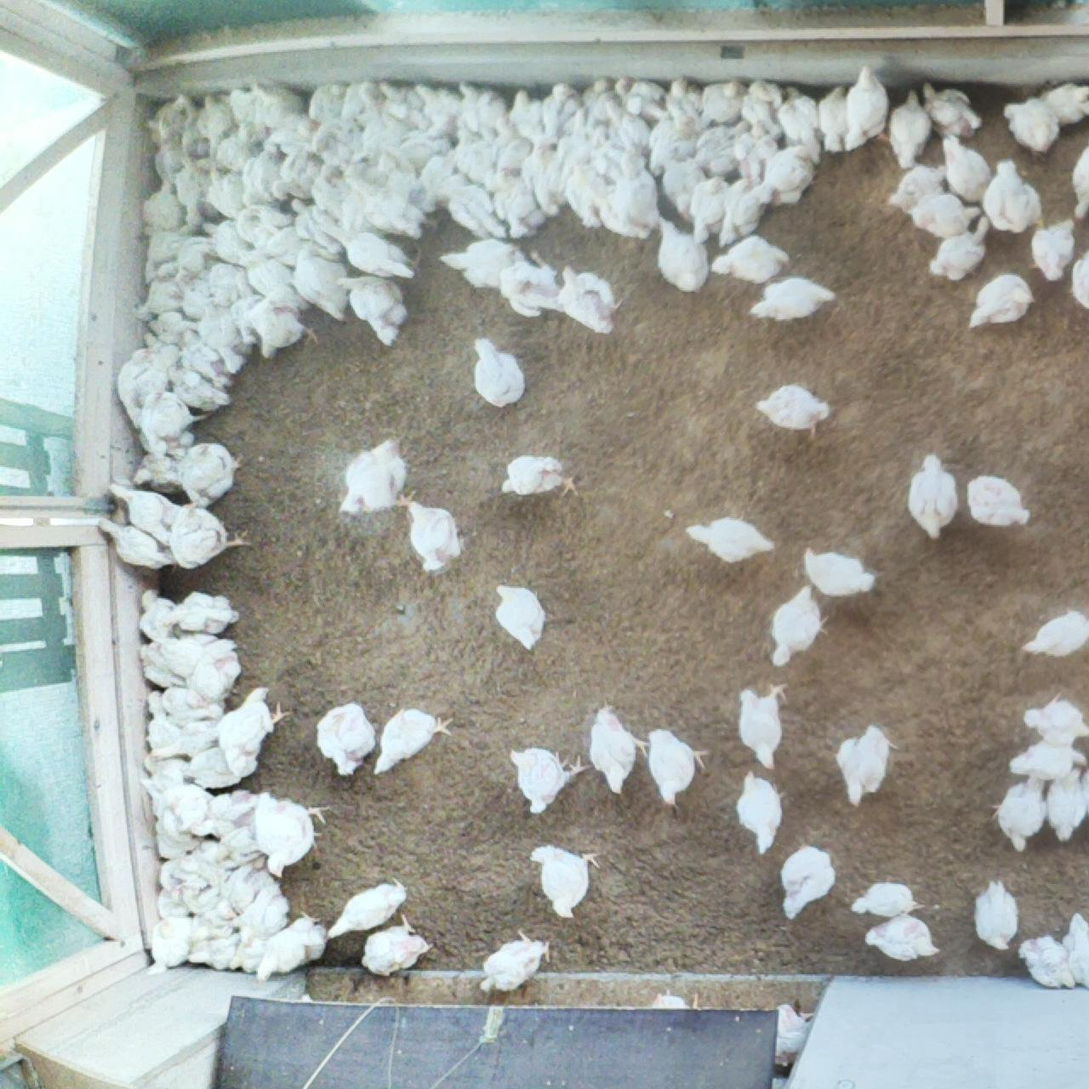chicken: (250, 789, 332, 879), (315, 215, 425, 282), (215, 685, 289, 783), (169, 500, 254, 573), (585, 700, 648, 796), (473, 928, 561, 995), (342, 429, 408, 517), (94, 513, 186, 576), (247, 916, 331, 985), (531, 842, 603, 922), (396, 497, 468, 577), (644, 724, 710, 810), (978, 155, 1048, 235), (108, 482, 191, 549), (550, 261, 623, 337), (327, 874, 411, 940), (376, 707, 452, 779), (512, 743, 589, 814), (342, 172, 427, 236), (734, 678, 792, 771), (991, 770, 1057, 851), (552, 111, 604, 213), (636, 987, 709, 1059), (439, 234, 528, 293), (766, 584, 827, 669), (168, 440, 242, 510), (360, 909, 434, 979), (144, 772, 202, 861), (604, 149, 661, 239), (291, 243, 355, 322), (337, 272, 410, 341), (316, 699, 378, 780), (751, 379, 833, 440), (730, 771, 789, 855), (242, 296, 319, 360), (745, 273, 839, 325), (465, 334, 531, 408), (491, 249, 563, 316), (904, 451, 957, 542), (841, 62, 891, 158), (936, 130, 998, 207), (182, 631, 244, 708), (756, 1001, 822, 1073), (156, 780, 232, 842), (185, 301, 251, 372), (686, 515, 781, 564), (778, 844, 840, 919), (130, 446, 213, 502), (496, 451, 582, 505), (228, 269, 289, 345), (718, 164, 773, 248), (237, 253, 313, 313), (440, 173, 510, 238), (708, 232, 790, 287), (875, 93, 935, 168), (837, 722, 889, 808), (134, 383, 197, 453), (117, 347, 172, 427), (966, 468, 1035, 531), (519, 139, 574, 218), (651, 214, 707, 291), (773, 83, 826, 163), (565, 160, 622, 234), (1009, 931, 1077, 993), (286, 196, 351, 260), (233, 884, 297, 949), (176, 328, 244, 389), (1014, 607, 1089, 662), (487, 175, 550, 240), (490, 580, 549, 649), (861, 912, 939, 964), (968, 874, 1020, 952), (799, 548, 880, 598), (1042, 762, 1089, 848), (485, 117, 543, 186), (925, 221, 992, 280), (155, 856, 222, 915), (920, 79, 983, 141), (161, 589, 240, 638), (537, 80, 592, 150), (155, 721, 233, 770), (966, 274, 1034, 330), (304, 159, 360, 227), (901, 191, 986, 235), (762, 140, 817, 207), (685, 173, 734, 248), (202, 787, 261, 849), (1001, 98, 1065, 155), (1023, 693, 1089, 748), (187, 916, 249, 974), (159, 364, 229, 415), (374, 150, 428, 216), (223, 925, 289, 979), (211, 119, 270, 179), (144, 911, 197, 977), (497, 85, 552, 148), (887, 160, 947, 217), (218, 864, 278, 921), (298, 117, 363, 169), (154, 682, 224, 730), (138, 177, 191, 240), (656, 157, 713, 214), (242, 143, 289, 212), (262, 113, 325, 163), (659, 76, 713, 134), (815, 81, 854, 161), (192, 262, 259, 308), (142, 693, 188, 760), (338, 80, 392, 137), (1006, 741, 1089, 778), (698, 119, 750, 178), (199, 218, 261, 267), (273, 152, 328, 207), (651, 117, 704, 174), (163, 236, 222, 287), (172, 167, 220, 229), (1050, 910, 1089, 986), (135, 585, 184, 645), (1033, 80, 1089, 132), (140, 635, 191, 692), (740, 79, 790, 137), (1029, 220, 1075, 283), (206, 168, 261, 220), (451, 126, 499, 185), (581, 111, 619, 185), (455, 82, 506, 137), (141, 230, 192, 284), (358, 107, 406, 164), (412, 82, 474, 126), (255, 225, 313, 272), (612, 75, 671, 121), (415, 148, 458, 211), (401, 113, 454, 163), (132, 282, 198, 322), (234, 205, 294, 248), (191, 96, 242, 146), (138, 329, 185, 383), (252, 78, 302, 128), (219, 83, 268, 134), (143, 309, 198, 354), (148, 96, 197, 145), (306, 80, 358, 126), (381, 79, 428, 129), (605, 100, 649, 153), (1063, 141, 1089, 225), (150, 140, 194, 189), (579, 78, 618, 129), (696, 82, 739, 127), (1062, 249, 1089, 316)
